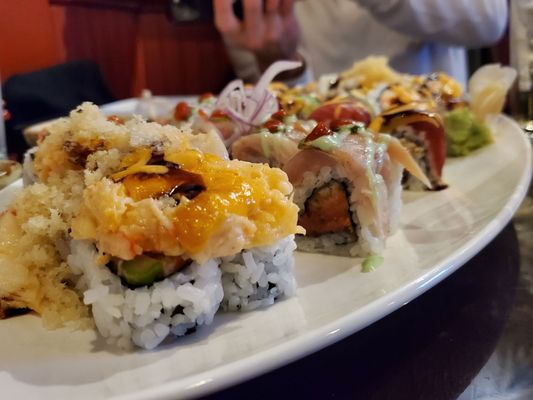soup: (2, 103, 301, 354)
